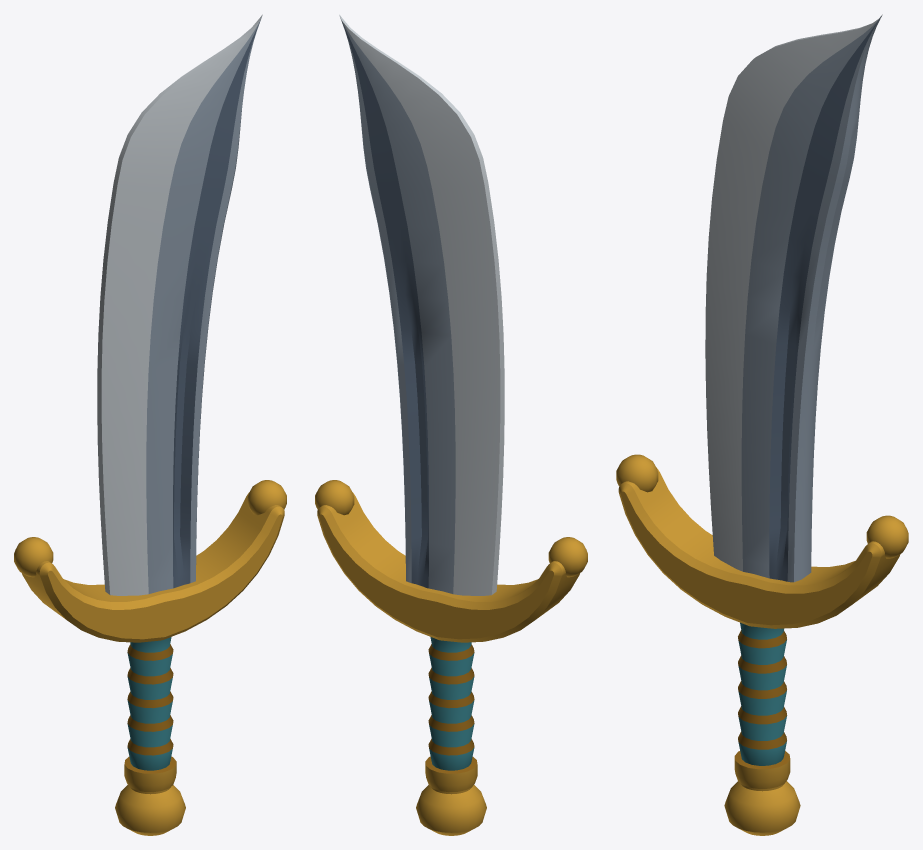
The model's file is Scimitar_02.glb.
3 views of the same model, side by side, from view 1: azimuth 30°, elevation 25°; view 2: azimuth 150°, elevation 25°; view 3: azimuth 330°, elevation 25° (orthographic). The views are drawn at different scales.
Visible parts, largest first — view 1: Scimitar_02; view 2: Scimitar_02; view 3: Scimitar_02.
Boxes of the visible parts, x1=… form: Scimitar_02: x1=14, y1=14, x2=286, y2=835; Scimitar_02: x1=315, y1=14, x2=587, y2=835; Scimitar_02: x1=616, y1=14, x2=908, y2=835.
Bounding box in the file's own units: 2.3 × 6.47 × 0.53.
